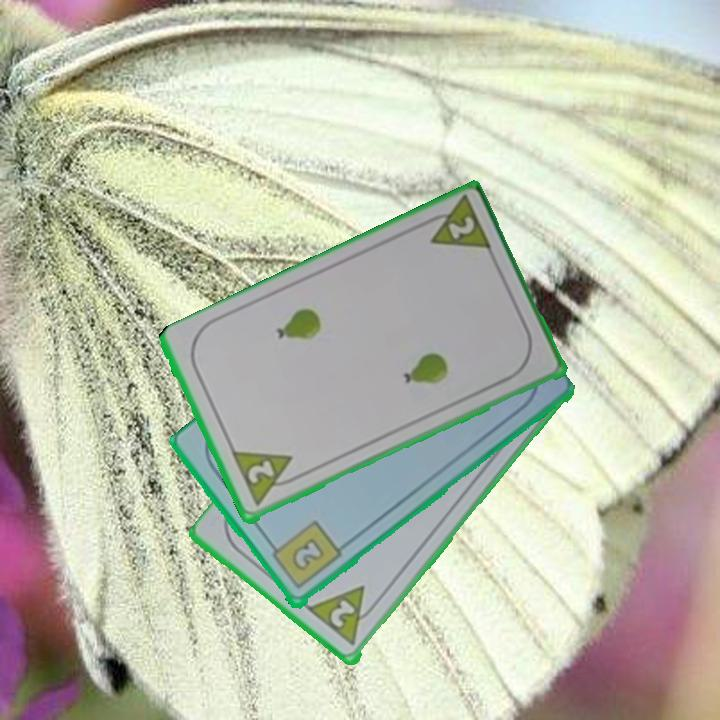2b: (265, 518, 344, 593)
2p: (416, 194, 495, 255), (228, 448, 304, 511), (326, 596, 359, 631)
